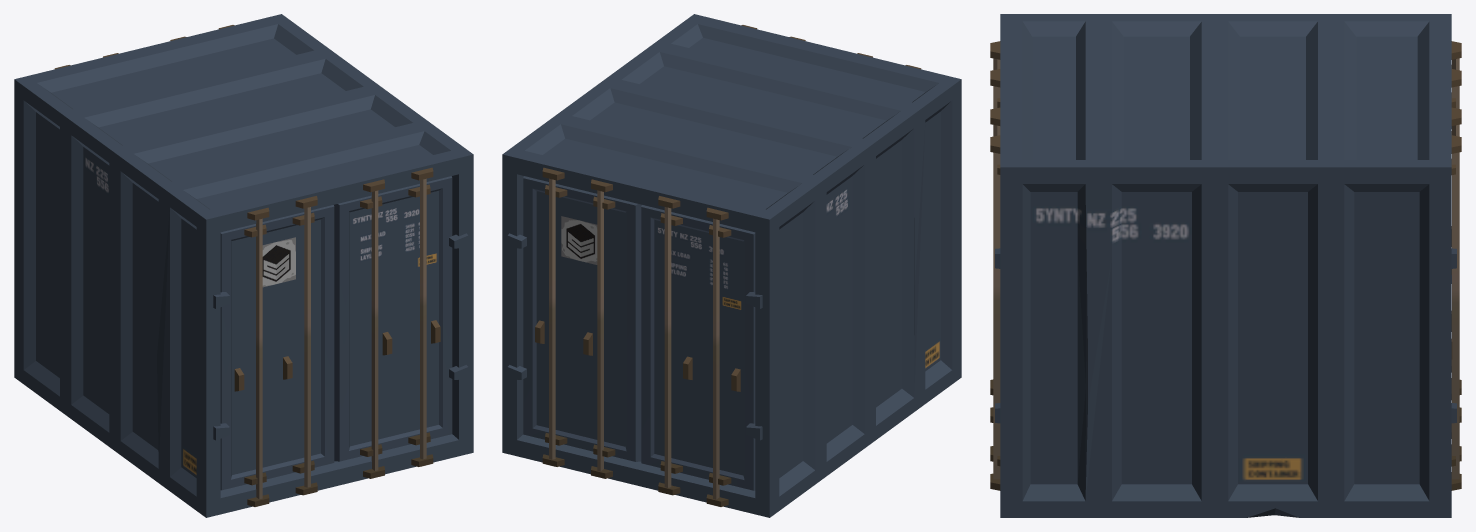
Rendered from SM_Prop_Shipping_Container_Small_01.obj.
3 views of the same model, side by side, from view 1: azimuth 30°, elevation 25°; view 2: azimuth 150°, elevation 25°; view 3: azimuth 270°, elevation 25° (orthographic). The views are drawn at different scales.
Visible parts, largest first — view 1: SM_Prop_Shipping_Container_Small_01_0; view 2: SM_Prop_Shipping_Container_Small_01_0; view 3: SM_Prop_Shipping_Container_Small_01_0.
Boxes of the visible parts, x1,y1,x2,y2 form: SM_Prop_Shipping_Container_Small_01_0: (14,14,473,517); SM_Prop_Shipping_Container_Small_01_0: (502,14,961,517); SM_Prop_Shipping_Container_Small_01_0: (990,14,1461,517).
Bounding box in the file's own units: 2.45 × 2.59 × 3.15.
1 material, 1 textured.
